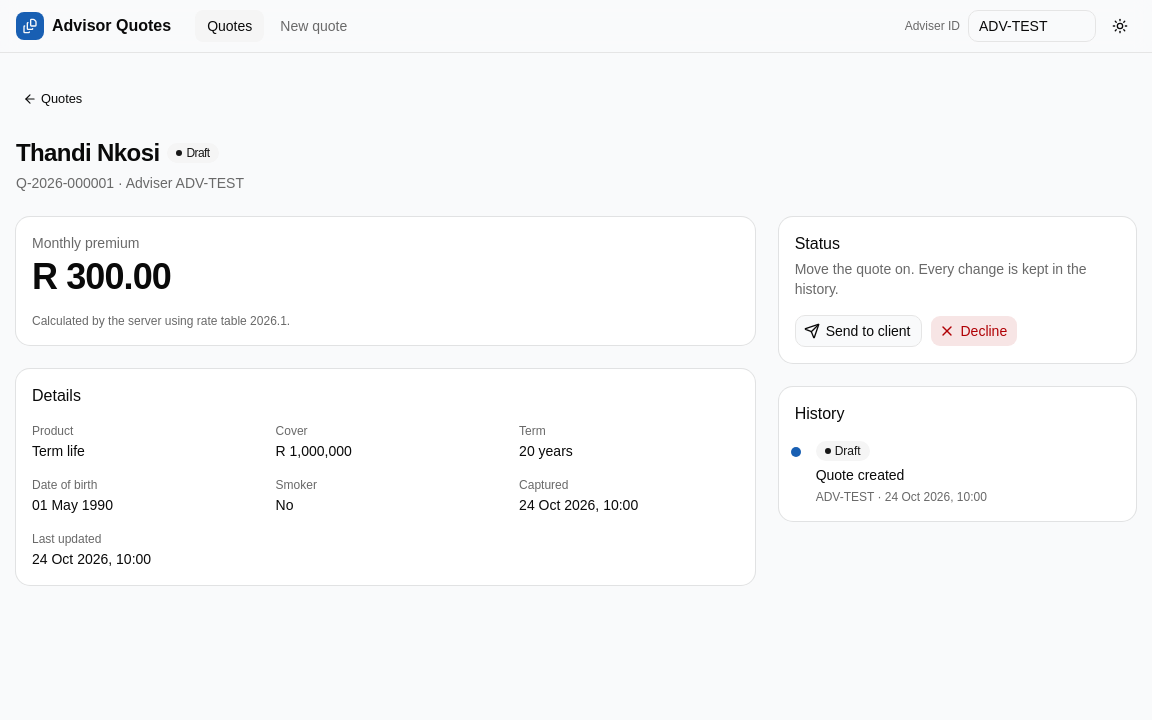
Scenario: changing a quote status › requires a reason before declining
Click the button "Decline" at [974, 331], box [930, 315, 1018, 347]
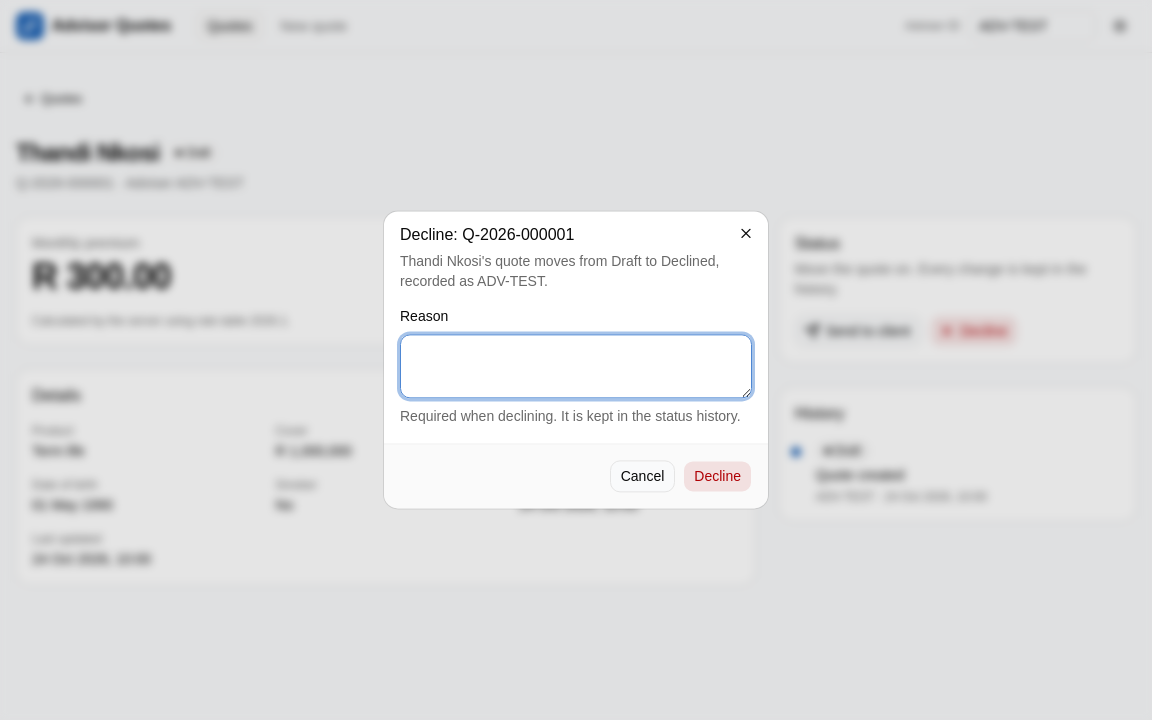
Click the button "Decline" at [718, 477], box [683, 461, 752, 493]
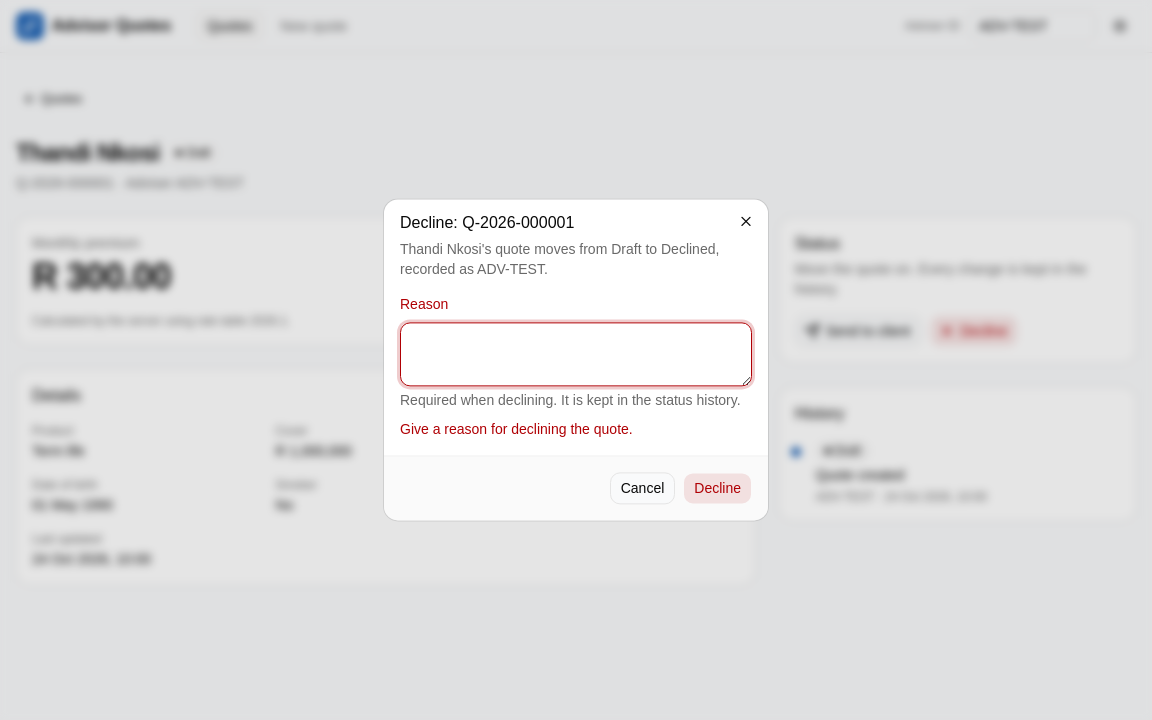
expect the text "Give a reason for declining the quote." is shown: met, box [400, 422, 633, 438]
